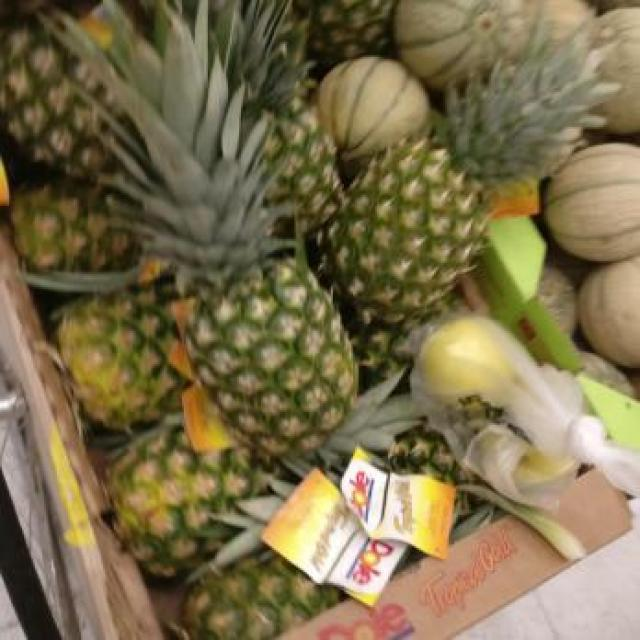pineapple: (62, 0, 358, 458), (324, 40, 609, 324), (211, 0, 342, 232), (108, 419, 260, 579), (0, 21, 110, 182), (58, 292, 182, 429), (15, 182, 140, 288), (184, 555, 339, 640)
